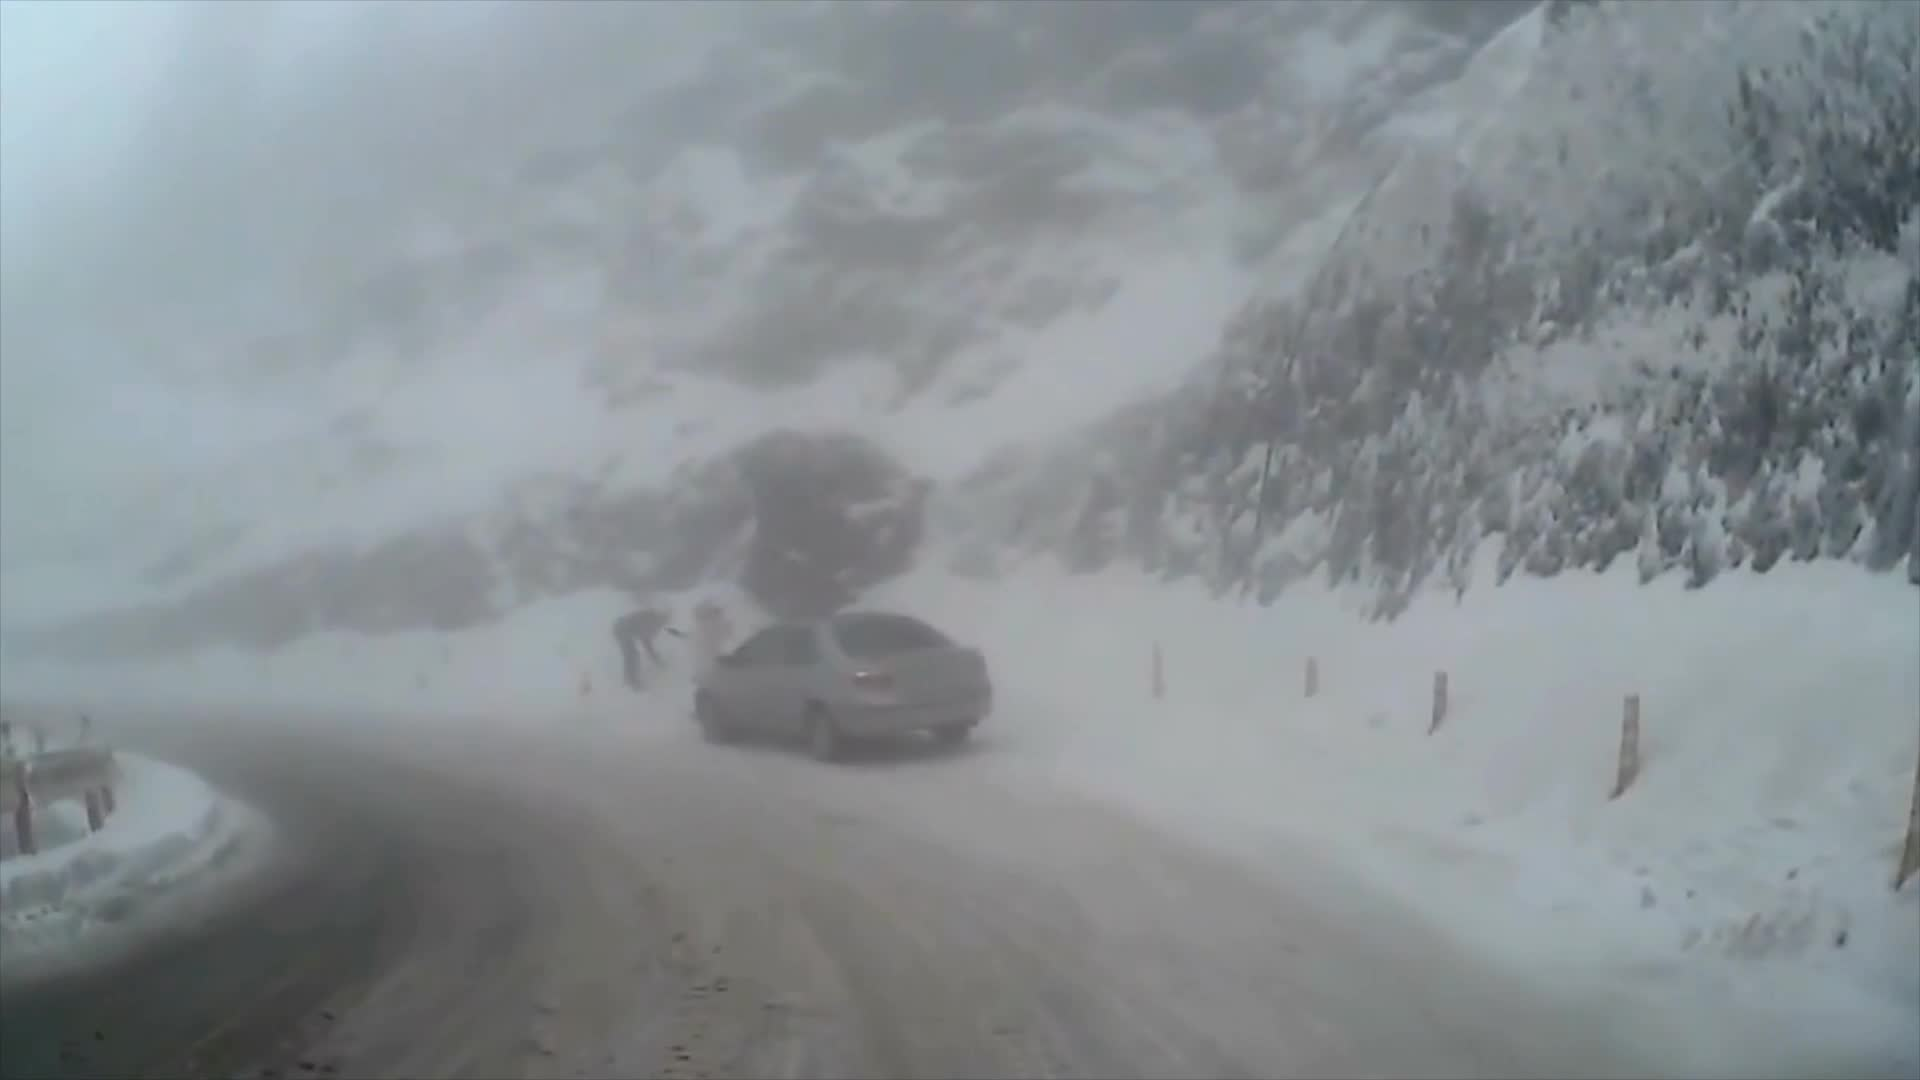pedestrian: (678, 596, 739, 722), (611, 610, 668, 693)
vehicle: (686, 608, 987, 762)
